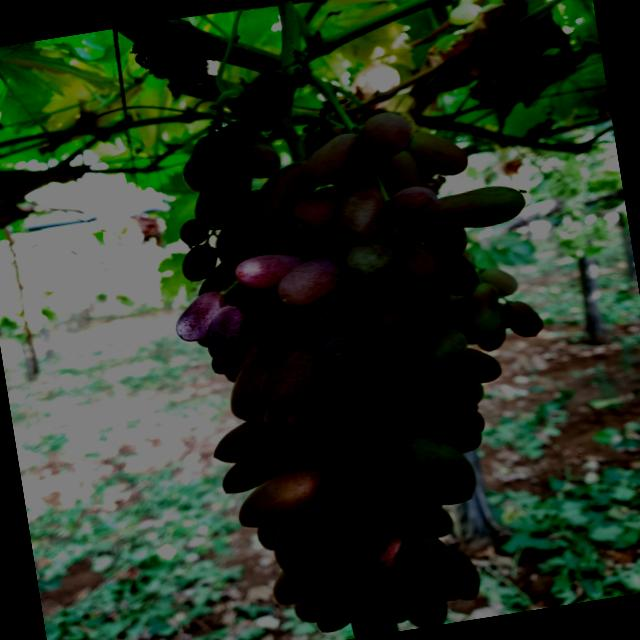grapes: (386, 420, 478, 512), (317, 511, 413, 595), (231, 461, 337, 532), (239, 160, 325, 243), (392, 522, 470, 608), (305, 474, 376, 560), (250, 341, 330, 415), (425, 180, 528, 236), (364, 456, 434, 538), (207, 186, 282, 262), (288, 278, 371, 346), (396, 326, 474, 396), (267, 500, 335, 578), (222, 344, 286, 424), (404, 385, 486, 447), (360, 551, 424, 628), (272, 252, 354, 310), (208, 412, 287, 467), (200, 301, 264, 368), (297, 130, 370, 188), (220, 116, 282, 183), (357, 275, 416, 344), (258, 386, 330, 442), (402, 125, 470, 182), (200, 143, 256, 211), (170, 288, 238, 344), (192, 250, 260, 304), (286, 184, 355, 237), (309, 576, 372, 634), (421, 236, 478, 300), (332, 179, 388, 243), (310, 388, 370, 447), (235, 68, 294, 127), (233, 249, 307, 294), (177, 134, 230, 195), (378, 182, 442, 232), (356, 108, 414, 162), (457, 279, 505, 343), (441, 342, 504, 388), (268, 427, 329, 474), (341, 234, 399, 282), (335, 429, 389, 480), (190, 176, 239, 232), (270, 564, 332, 608), (372, 148, 423, 200), (385, 242, 439, 290), (363, 326, 418, 372), (402, 278, 452, 328), (422, 374, 478, 418), (218, 453, 278, 494), (403, 581, 449, 630), (316, 331, 370, 372), (290, 580, 340, 624), (347, 598, 401, 638), (364, 400, 416, 441), (264, 225, 323, 261), (347, 358, 396, 400), (208, 338, 262, 376), (449, 542, 483, 602), (382, 362, 426, 406), (232, 280, 282, 318), (259, 333, 305, 374), (290, 547, 336, 588), (312, 222, 364, 258), (502, 298, 544, 340), (312, 362, 357, 401), (179, 244, 223, 283), (304, 124, 354, 156), (264, 297, 310, 331), (477, 264, 520, 300), (242, 450, 286, 484), (446, 371, 486, 408), (419, 504, 454, 540), (444, 429, 484, 456), (178, 217, 210, 248), (475, 327, 509, 354), (256, 524, 284, 552), (418, 317, 449, 338), (225, 368, 248, 383)
